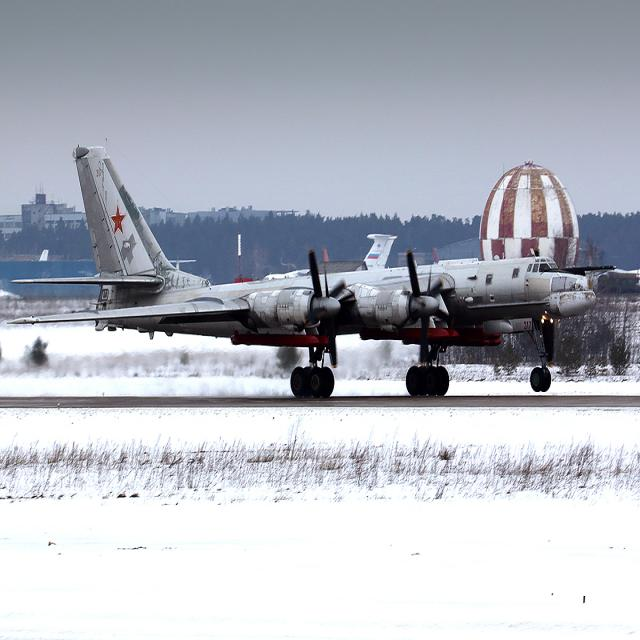MIL_Plane: (6, 137, 616, 398)
